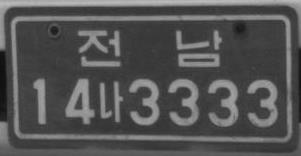1: (27, 76, 54, 125)
3: (206, 77, 240, 128), (245, 78, 279, 129), (167, 77, 200, 127), (128, 76, 160, 126)
4: (64, 76, 95, 126)
나: (98, 79, 124, 123)
전남_D: (76, 28, 223, 68)
